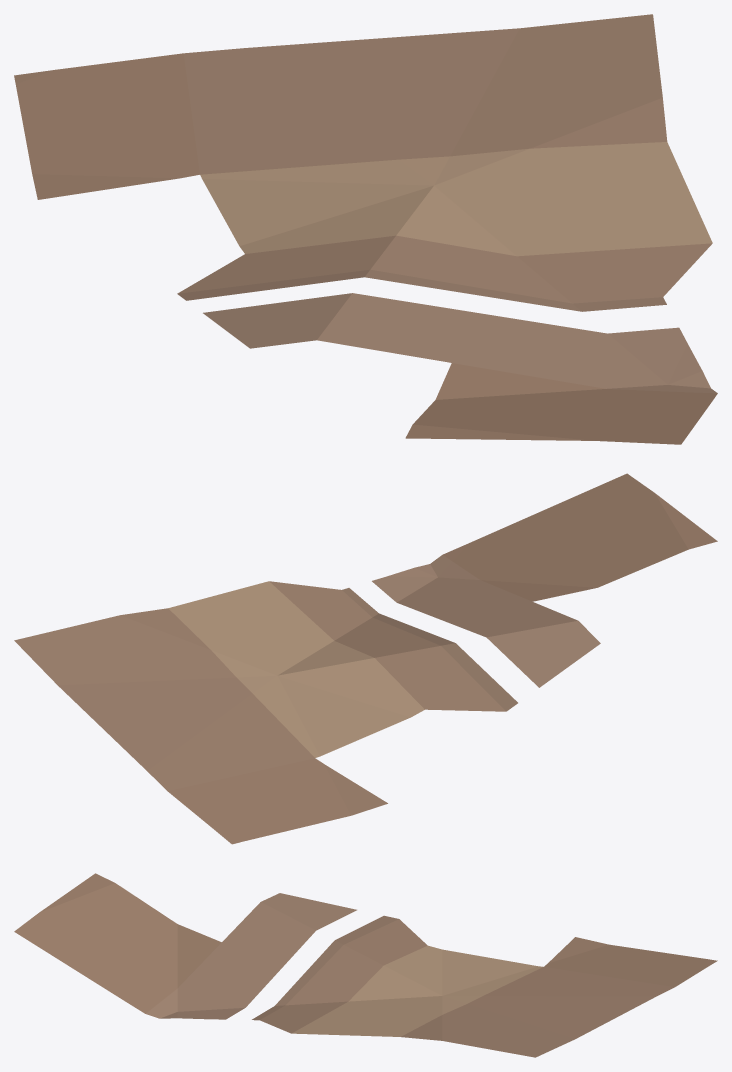
File: farm_-62_-52_soil.glb
3 views of the same model, one above another, from view 1: azimuth 30°, elevation 25°; view 2: azimuth 150°, elevation 25°; view 3: azimuth 270°, elevation 25° (orthographic). The views are drawn at different scales.
Visible parts, largest first — view 1: geometry_0; view 2: geometry_0; view 3: geometry_0.
Part boxes in pixels (left/top/right/bottom): geometry_0: left=14, top=14, right=717, bottom=444; geometry_0: left=14, top=473, right=717, bottom=844; geometry_0: left=14, top=873, right=717, bottom=1057.
Size of the model in its own units: 126 by 16.39 by 213.
